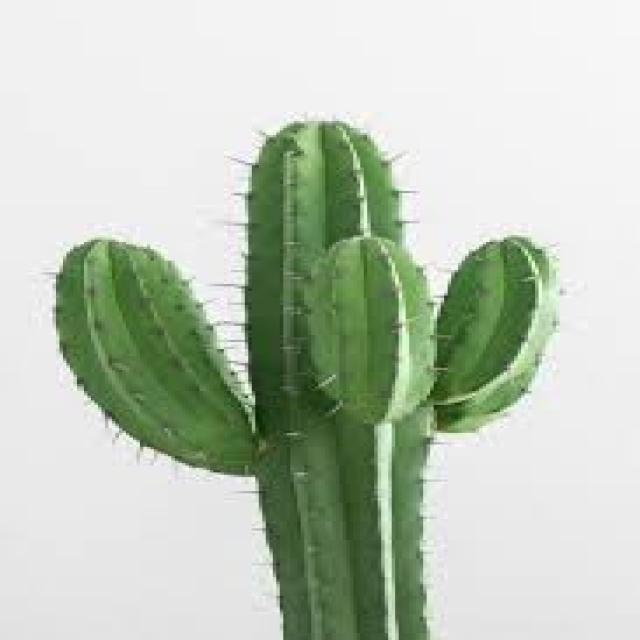cactus: (19, 87, 591, 496)
